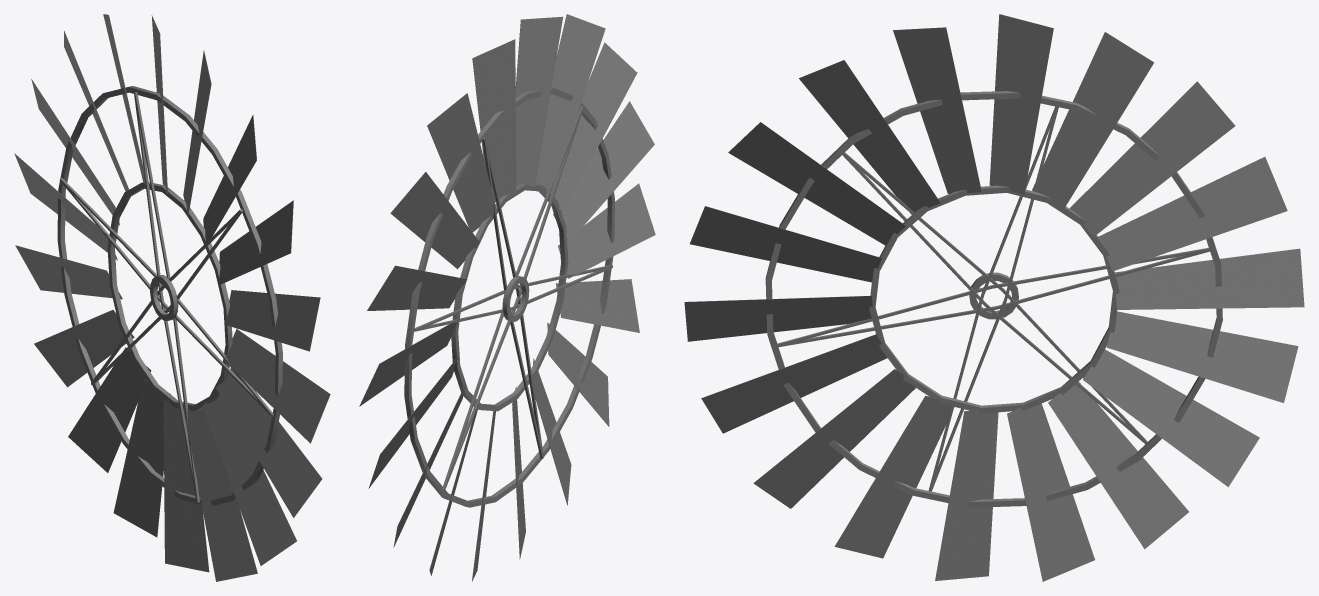
File: ProiectPGElice.obj
The picture shows the model from 3 angles, left to right: view 1: azimuth 30°, elevation 25°; view 2: azimuth 150°, elevation 25°; view 3: azimuth 270°, elevation 25°; orthographic projection. The views are drawn at different scales.
Parts seen in each view (by area): view 1: windmill; view 2: windmill; view 3: windmill.
Part boxes in pixels (left/top/right/bottom): windmill: left=14, top=14, right=330, bottom=581; windmill: left=359, top=14, right=655, bottom=581; windmill: left=684, top=14, right=1304, bottom=581.
Size of the model in its own units: 1.01 by 18.17 by 18.16.
Materials: 1 (1 with a texture image).
